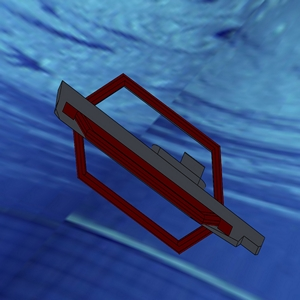submarine: (29, 49, 269, 263)
